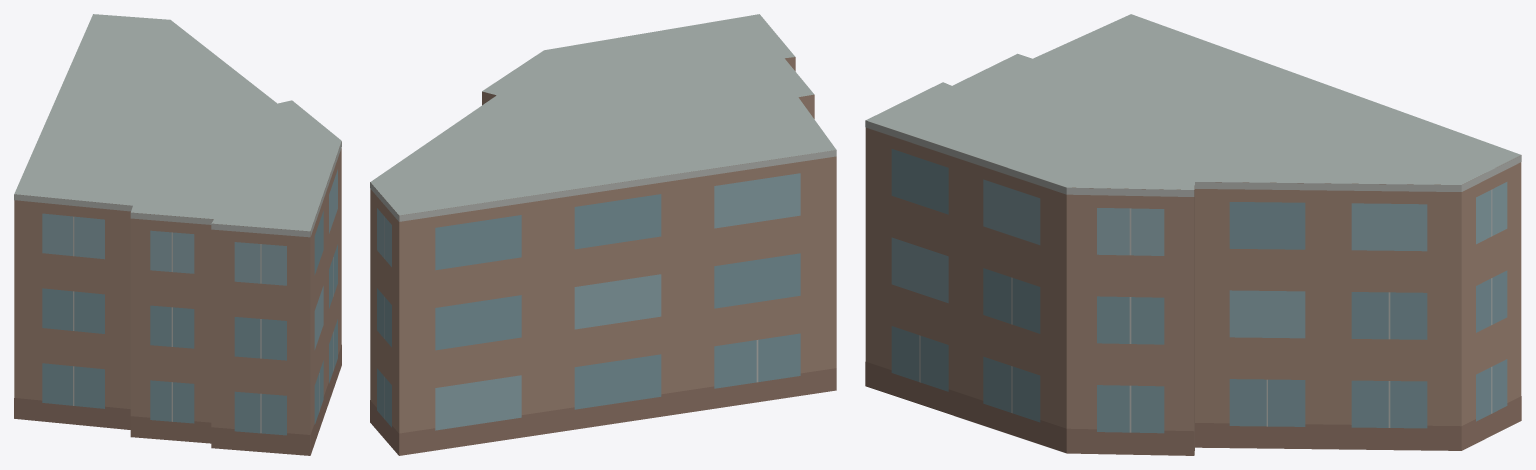
The model's file is survey-upis-32591826.glb.
The picture shows the model from 3 angles, left to right: view 1: azimuth 30°, elevation 25°; view 2: azimuth 150°, elevation 25°; view 3: azimuth 270°, elevation 25°; orthographic projection. The views are drawn at different scales.
Visible parts, largest first — view 1: survey-upis-32591826.tmp; view 2: survey-upis-32591826.tmp; view 3: survey-upis-32591826.tmp.
Boxes of the visible parts, bbox=[...] form: survey-upis-32591826.tmp: bbox=[14, 14, 341, 455]; survey-upis-32591826.tmp: bbox=[370, 14, 836, 455]; survey-upis-32591826.tmp: bbox=[865, 14, 1521, 455].
Size of the model in its own units: 13 by 9.15 by 20.47.
